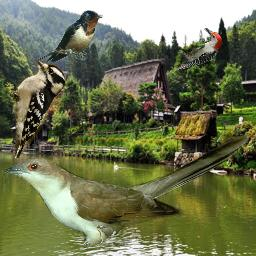Cuckoo: (2, 133, 249, 246)
Swallow: (36, 10, 103, 62)
Woodpecker: (11, 59, 66, 158), (177, 28, 222, 70)
